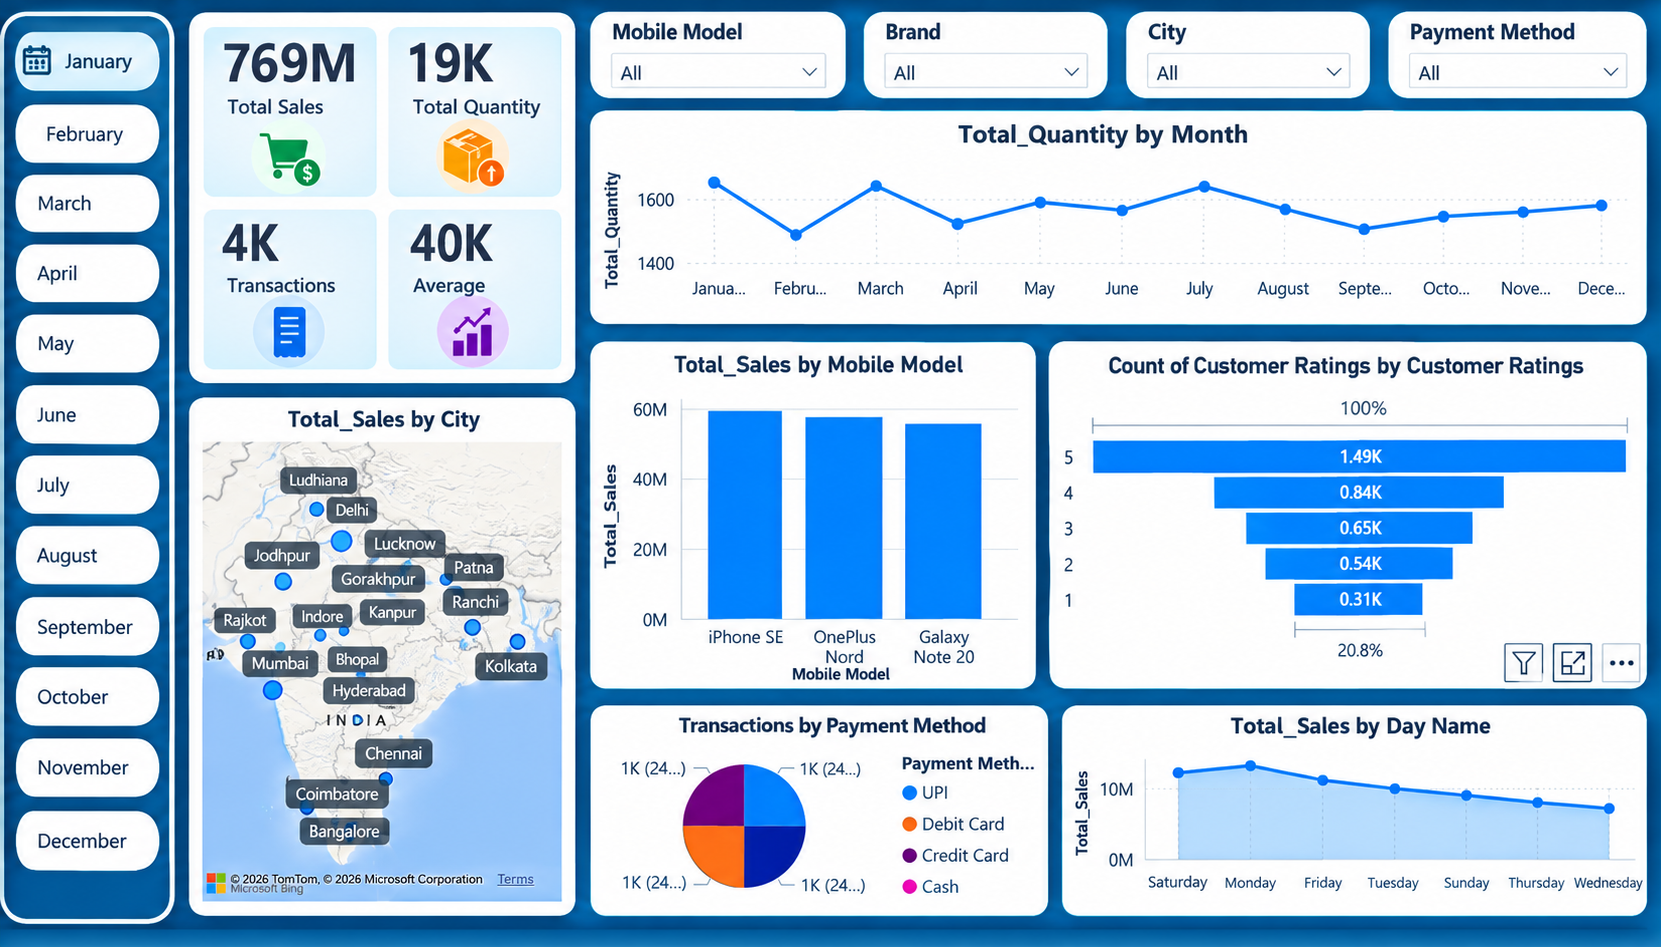

The page's visual inventory and layout, read from the dashboard file:
{"tool":"powerbi","page":{"name":"Page 1","canvas":[1280,720],"ordinal":0},"visuals":[{"type":"shape","box":[0,0,129.7,719.8],"z":0},{"type":"advancedSlicerVisual","fields":{"Values":["Sales Data.Date.Variation.Date Hierarchy.Month"]},"box":[8.6,12.8,114,695.6],"z":1000},{"type":"cardVisual","fields":{"Data":["Sales Data.Total_Sales","Sales Data.Total_Quantity","Sales Data.Total_Transactions","Sales Data.Average"]},"box":[141.1,0,296.5,293.6],"z":2000},{"type":"map","fields":{"Category":["Sales Data.City"],"Size":["Sales Data.Total_Sales"]},"box":[141.1,303.6,296.5,404.8],"z":3000},{"type":"lineChart","fields":{"Category":["Sales Data.Date.Variation.Date Hierarchy.Month","Sales Data.Date.Variation.Date Hierarchy.Day"],"Y":["Sales Data.Total_Quantity"]},"box":[447.1,65.7,822.9,162.9],"z":4000},{"type":"clusteredColumnChart","fields":{"Category":["Sales Data.Mobile Model"],"Y":["Sales Data.Total_Sales"]},"box":[447.1,244.3,304.3,272.9],"z":5000},{"type":"pieChart","fields":{"Category":["Sales Data.Payment Method"],"Y":["Sales Data.Transactions"]},"box":[447.1,528.6,370,180],"z":6000},{"type":"funnel","fields":{"Category":["Sales Data.Customer Ratings"],"Y":["CountNonNull(Sales Data.Customer Ratings)"]},"box":[761.4,244.3,508.6,261.4],"z":7000},{"type":"areaChart","fields":{"Category":["Sales Data.Day Name"],"Y":["Sales Data.Total_Sales"]},"box":[827.1,528.6,442.9,180],"z":8000},{"type":"actionButton","box":[0,0,100,40],"z":9000},{"type":"slicer","fields":{"Values":["Sales Data.Payment Method"]},"box":[1080,0,190,65.7],"z":10000},{"type":"slicer","fields":{"Values":["Sales Data.Mobile Model"]},"box":[450,0,190,65.7],"z":11000},{"type":"slicer","fields":{"Values":["Sales Data.City"]},"box":[874.3,0,190,65.7],"z":12000},{"type":"slicer","fields":{"Values":["Sales Data.Brand"]},"box":[665.7,0,190,65.7],"z":13000}]}

Visuals, with their boxes in screenshot pixels (x1, y1, x2, y2), scaled from the page's 1280x720 canvas onto the 1661x947 screenshot:
shape: <region>0, 0, 168, 946</region>
advancedSlicerVisual - Sales Data.Date.Variation.Date Hierarchy.Month: <region>11, 17, 159, 932</region>
cardVisual - Sales Data.Total_Sales x Sales Data.Total_Quantity: <region>183, 0, 568, 386</region>
map - Sales Data.City x Sales Data.Total_Sales: <region>183, 399, 568, 932</region>
lineChart - Sales Data.Date.Variation.Date Hierarchy.Month x Sales Data.Date.Variation.Date Hierarchy.Day: <region>580, 86, 1648, 301</region>
clusteredColumnChart - Sales Data.Mobile Model x Sales Data.Total_Sales: <region>580, 321, 975, 680</region>
pieChart - Sales Data.Payment Method x Sales Data.Transactions: <region>580, 695, 1060, 932</region>
funnel - Sales Data.Customer Ratings x CountNonNull(Sales Data.Customer Ratings): <region>988, 321, 1648, 665</region>
areaChart - Sales Data.Day Name x Sales Data.Total_Sales: <region>1073, 695, 1648, 932</region>
actionButton: <region>0, 0, 130, 53</region>
slicer - Sales Data.Payment Method: <region>1401, 0, 1648, 86</region>
slicer - Sales Data.Mobile Model: <region>584, 0, 830, 86</region>
slicer - Sales Data.City: <region>1135, 0, 1381, 86</region>
slicer - Sales Data.Brand: <region>864, 0, 1110, 86</region>
